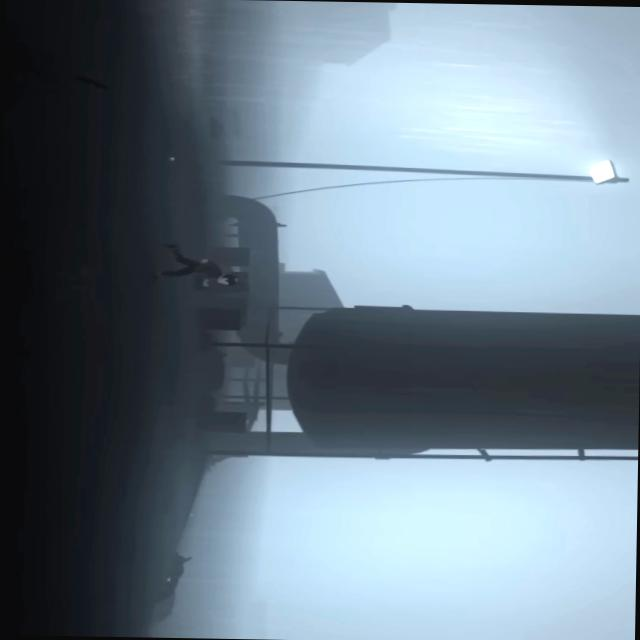boy: (194, 256, 240, 285)
